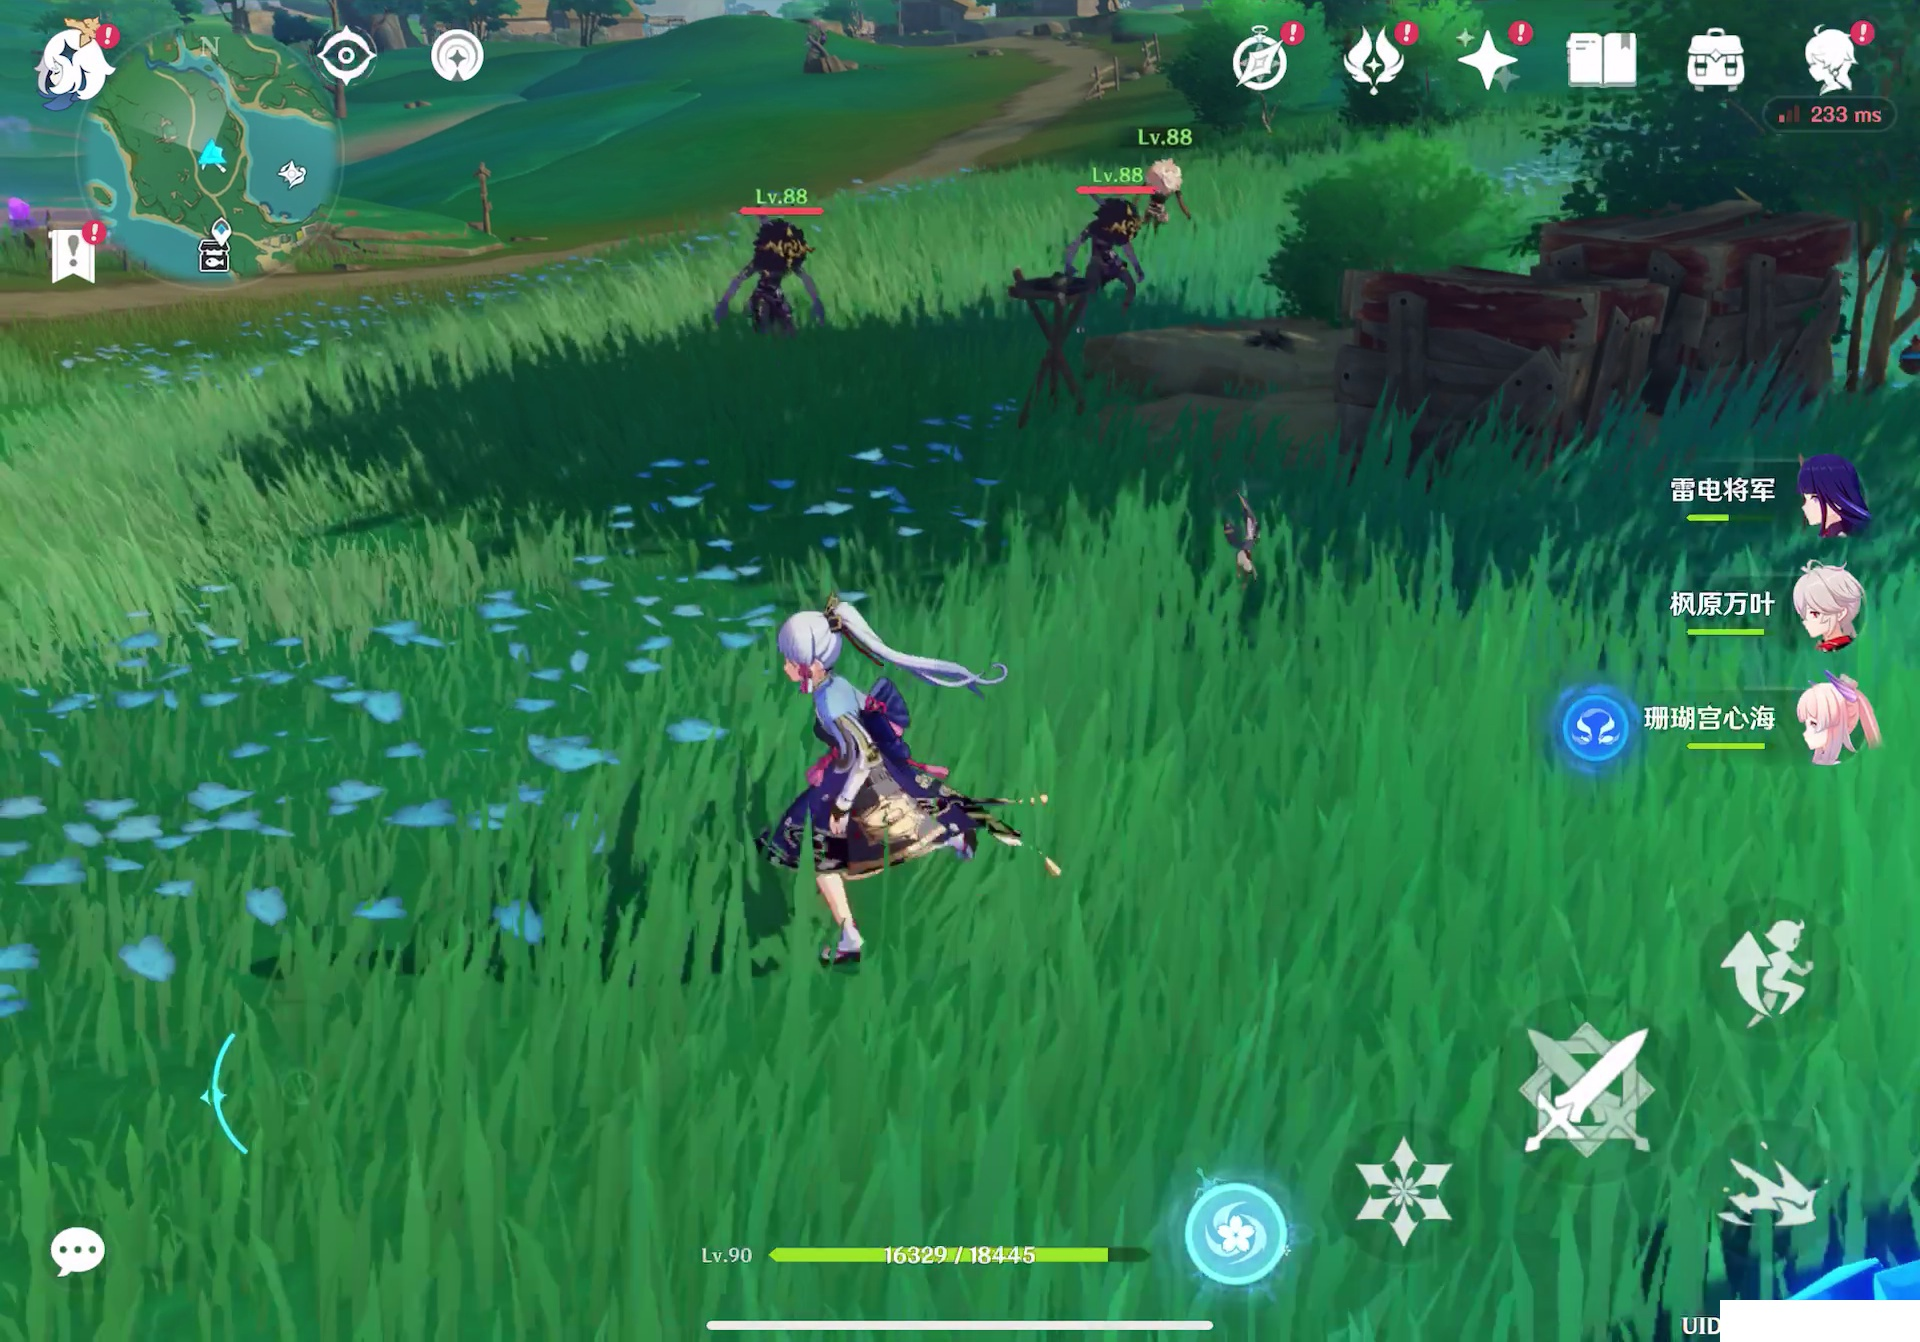丘丘人: (719, 214, 835, 344), (1074, 200, 1157, 317), (1145, 149, 1208, 232)
神里绫龟: (748, 578, 1046, 945)
